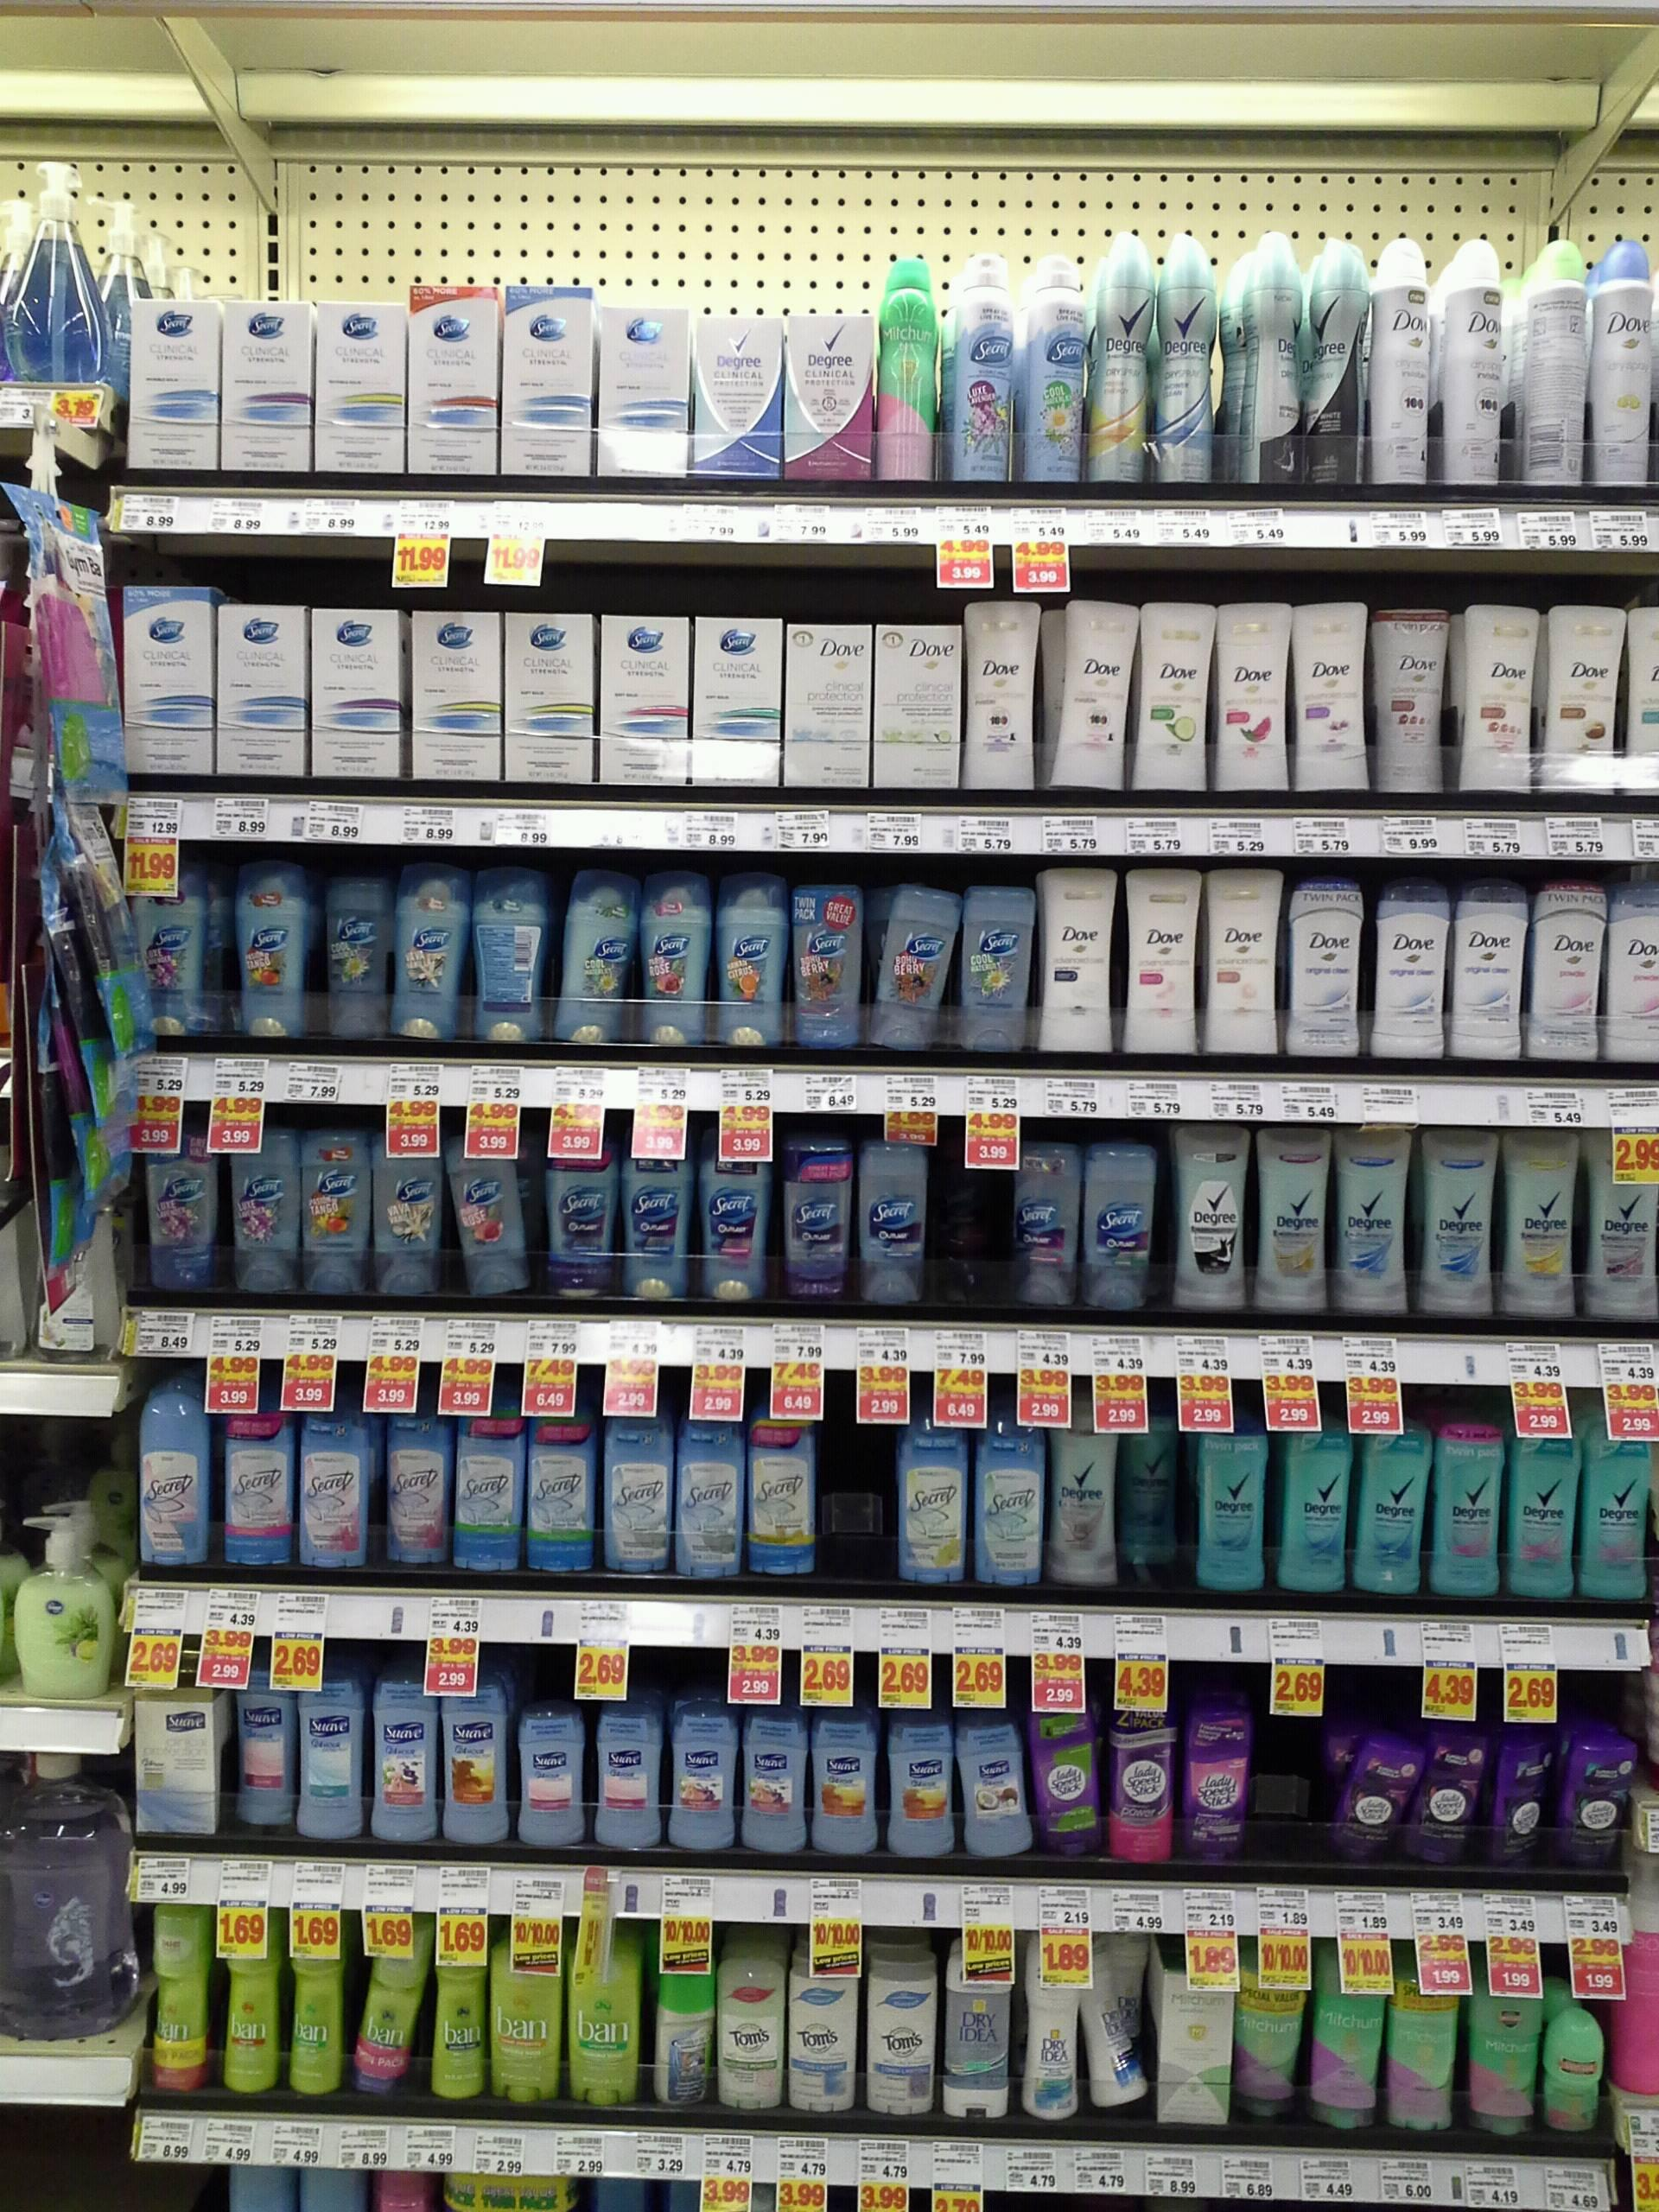empty: (809, 1432, 903, 1576), (931, 1163, 1023, 1308), (1251, 1723, 1326, 1846)
